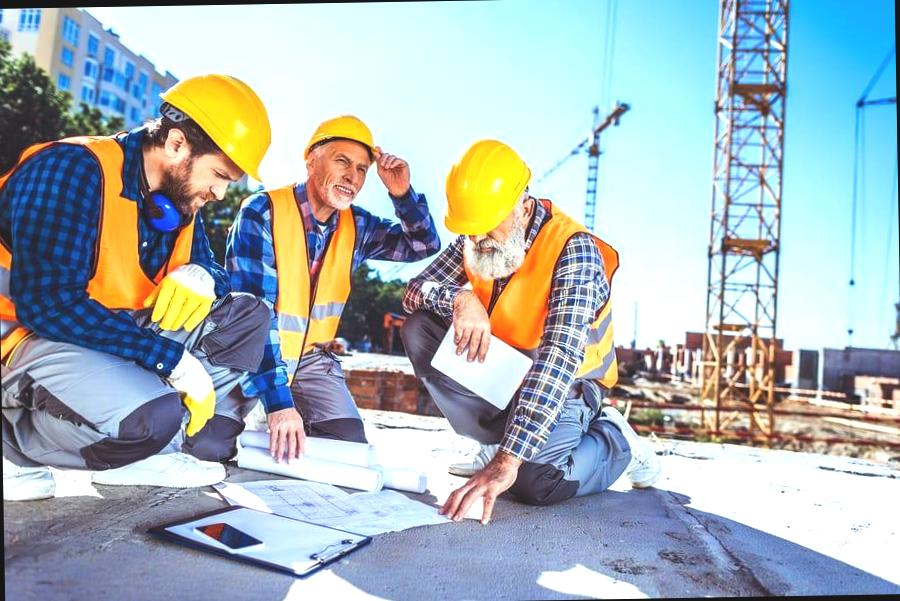helmet: (158, 67, 287, 188), (437, 134, 532, 241), (300, 114, 376, 166)
no_vest: (0, 144, 203, 407), (448, 223, 614, 429)
person: (0, 70, 287, 473), (401, 133, 633, 525), (265, 116, 432, 472)
